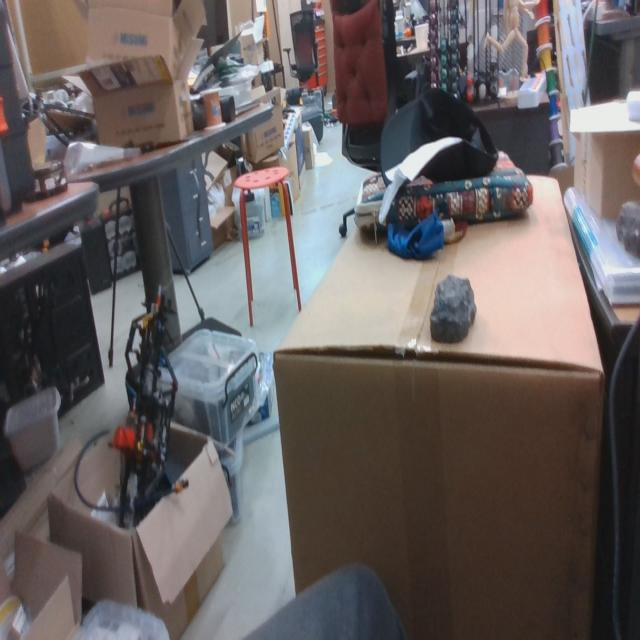stone: (429, 274, 476, 345), (615, 200, 640, 261)
